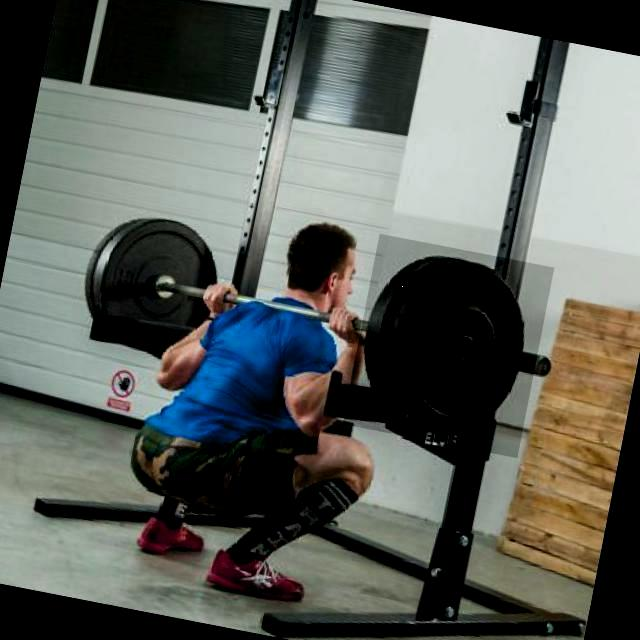barbell: (344, 236, 555, 460)
